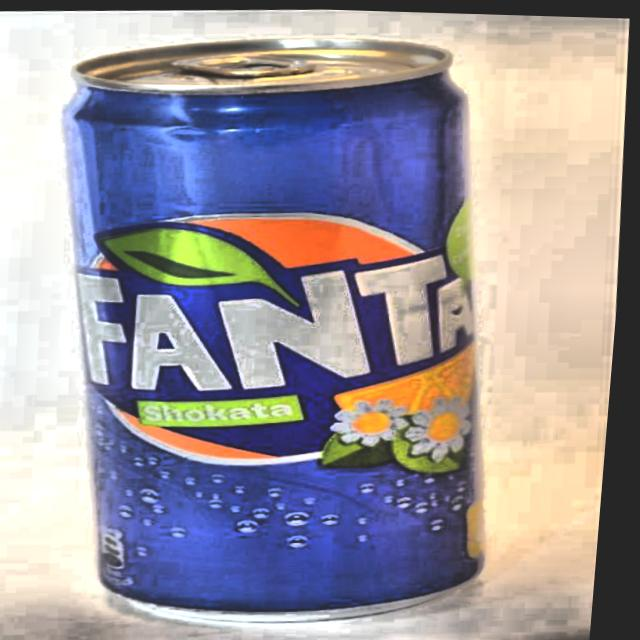Cans: (17, 16, 572, 639)
